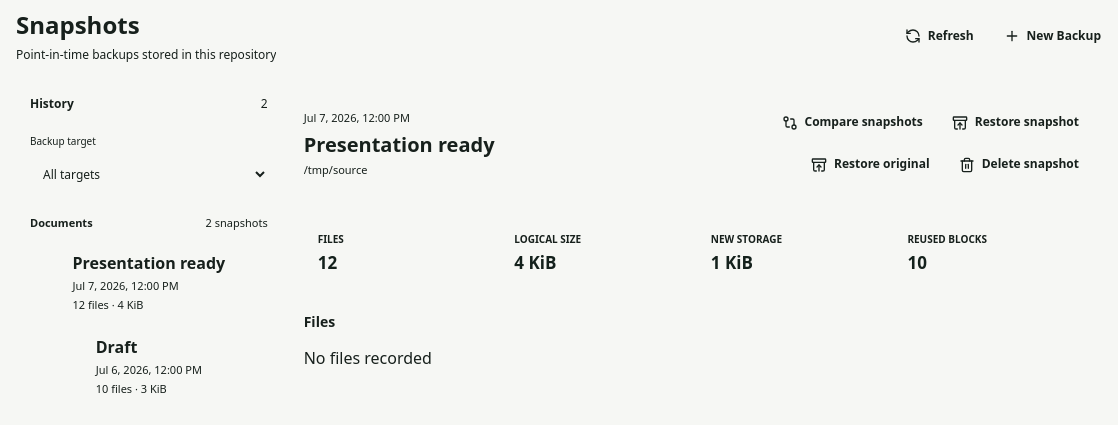
Scenario: keeps snapshot list visible while switching detail and compare views
Click the button with aria-label "open presentation ready": x=149, y=282 x1=16 y1=240 x2=282 y2=324
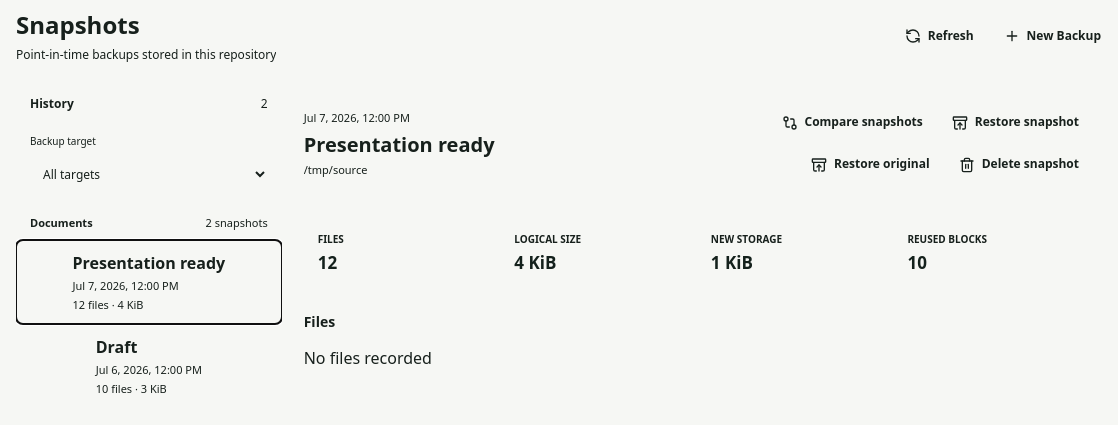
Expected: the heading "Presentation ready" is shown, x1=304 y1=131 x2=494 y2=158
Click the button "Compare snapshots": x=852, y=122 x1=770 y1=105 x2=934 y2=140
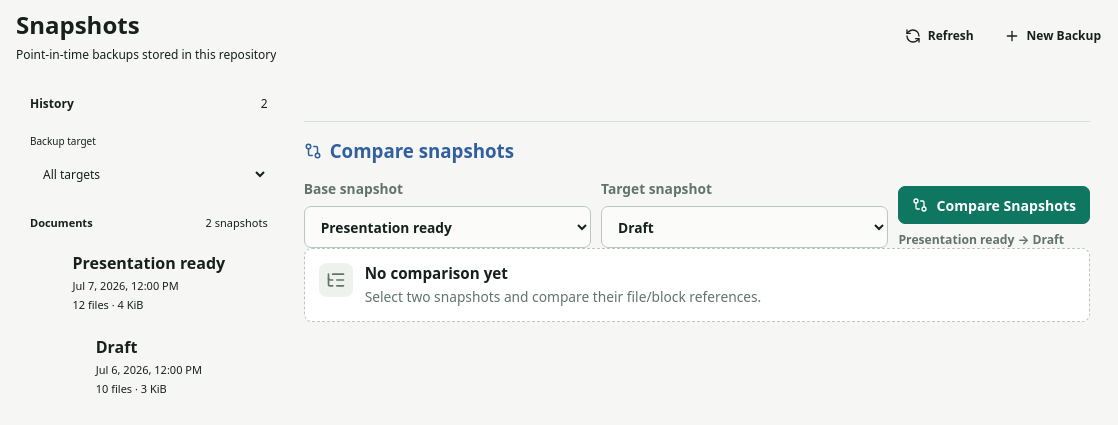
Expected: the list named "snapshot list" is shown, x1=16 y1=205 x2=282 y2=408
Result: the dropdown labelled "Base snapshot" is shown at x1=304 y1=206 x2=591 y2=248
